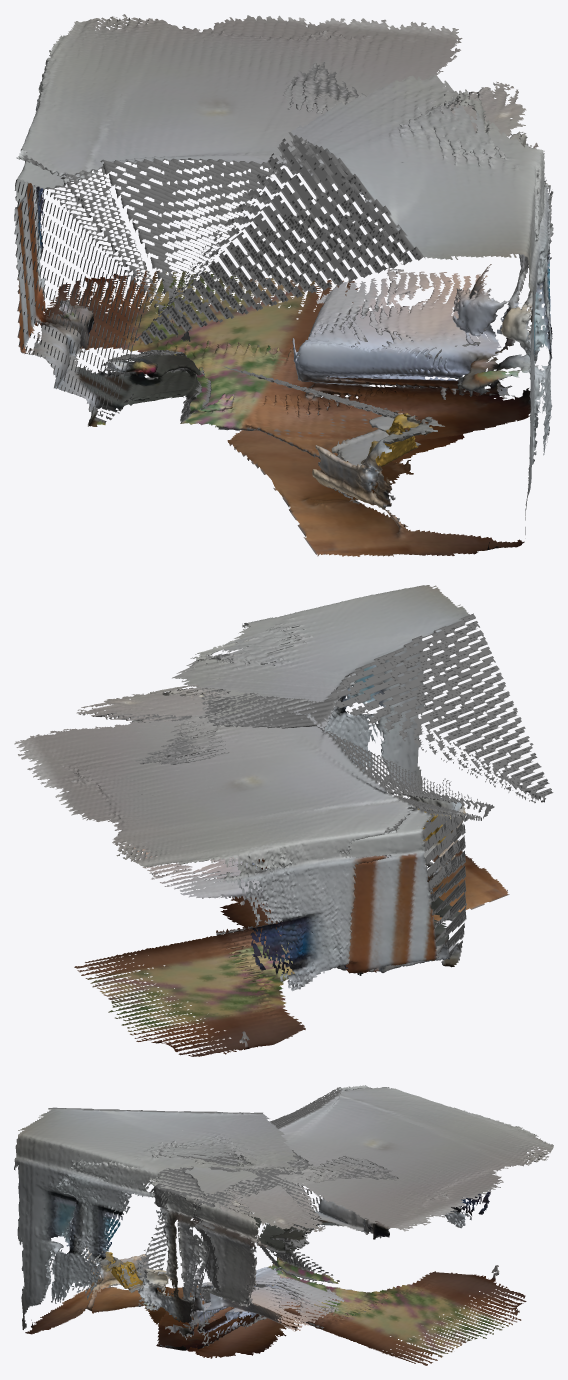
Rendered from hotel_mesh.glb.
3 views of the same model, one above another, from view 1: azimuth 30°, elevation 25°; view 2: azimuth 150°, elevation 25°; view 3: azimuth 270°, elevation 25° (orthographic). The views are drawn at different scales.
Visible parts, largest first — view 1: Room; view 2: Room; view 3: Room.
Boxes of the visible parts, bbox=[...] form: Room: bbox=[14, 14, 553, 556]; Room: bbox=[14, 585, 553, 1056]; Room: bbox=[14, 1085, 553, 1365].
Size of the model in its own units: 4.54 by 2.82 by 6.46.
